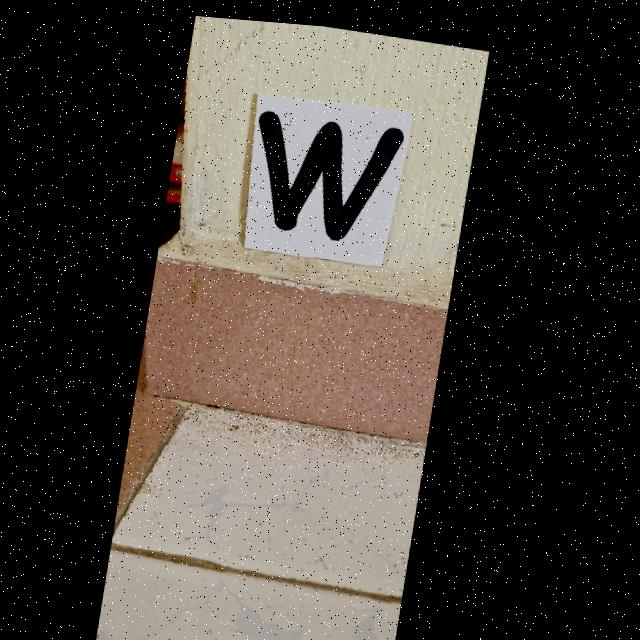W: (260, 107, 405, 233)
